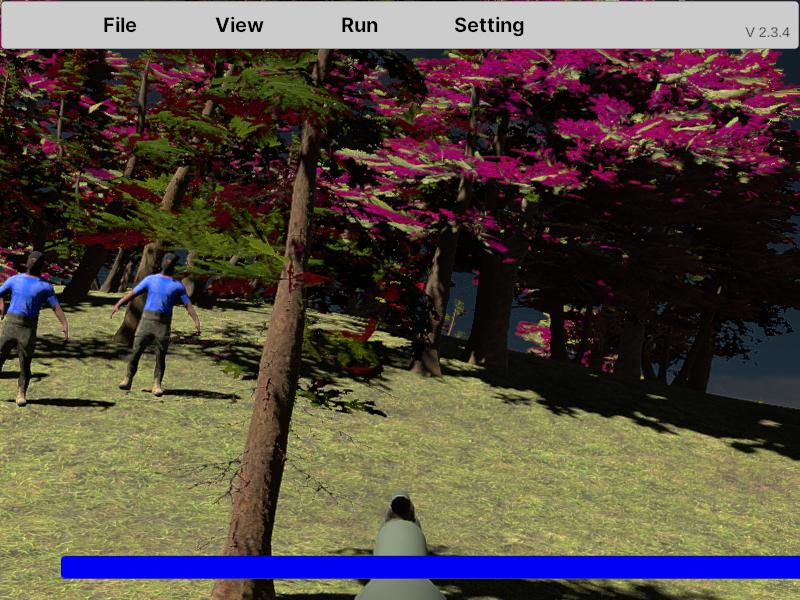Human: (111, 250, 201, 398), (0, 251, 68, 406)
